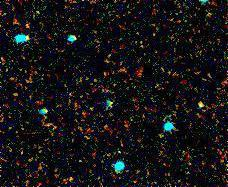star: (187, 89, 217, 119)
